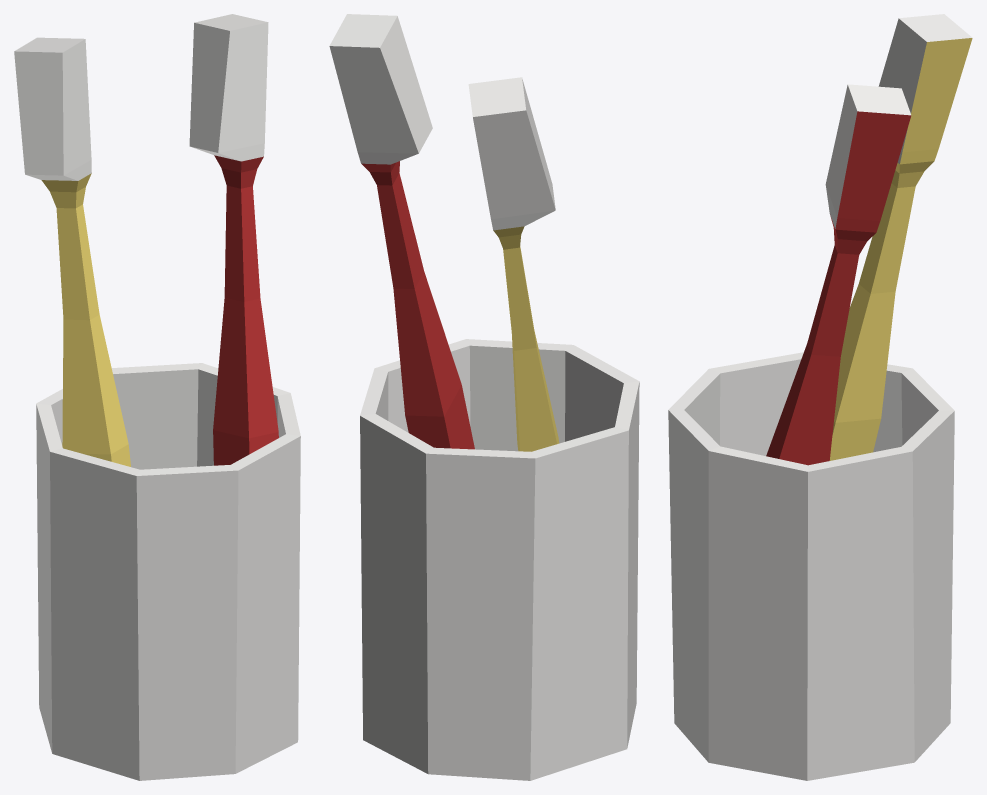
The model's file is Toothbrush_1.fbx.
3 views of the same model, side by side, from view 1: azimuth 30°, elevation 25°; view 2: azimuth 150°, elevation 25°; view 3: azimuth 270°, elevation 25° (orthographic). The views are drawn at different scales.
Parts seen in each view (by area): view 1: Toothbrush_1; view 2: Toothbrush_1; view 3: Toothbrush_1.
Boxes of the visible parts, left/top/right/bottom form: Toothbrush_1: left=14, top=14, right=300, bottom=780; Toothbrush_1: left=329, top=14, right=639, bottom=780; Toothbrush_1: left=668, top=14, right=972, bottom=780.
Bounding box in the file's own units: 16.45 × 17.43 × 43.21.
